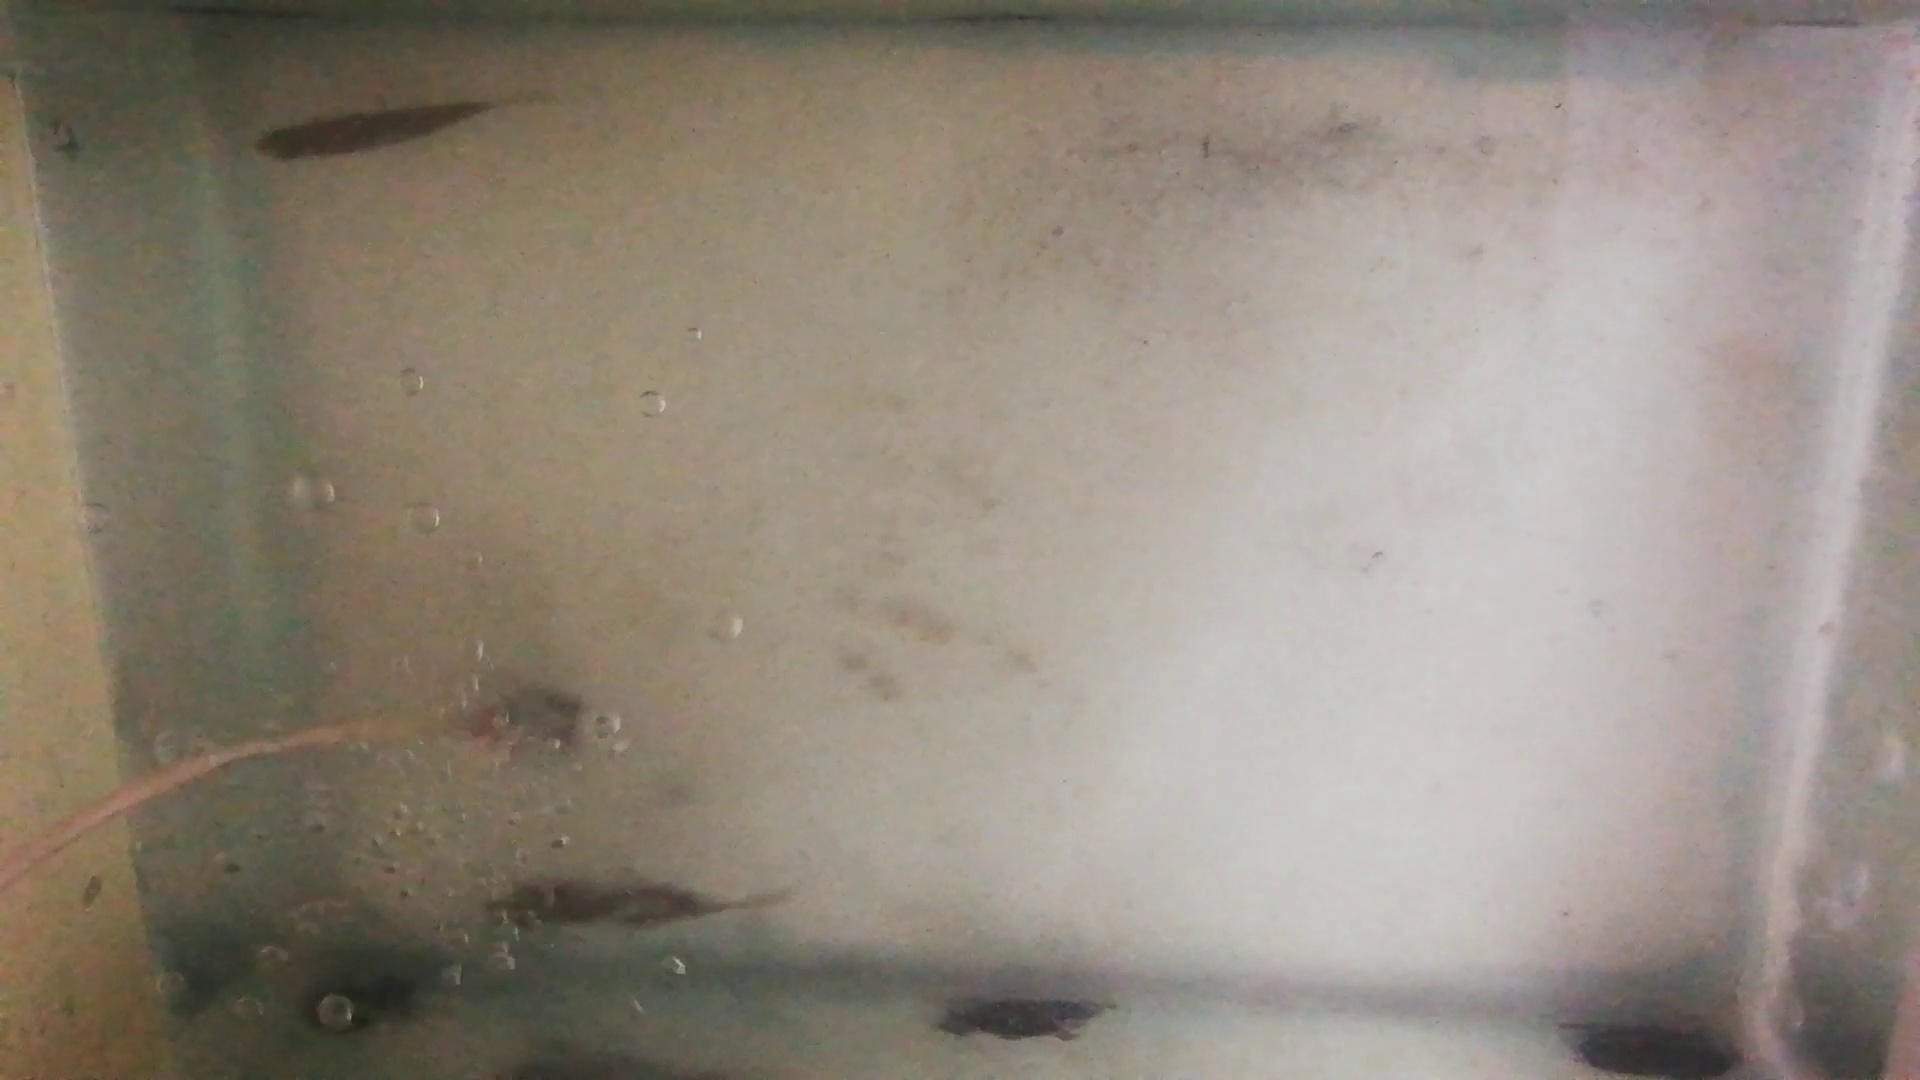fish: (251, 102, 493, 160), (484, 876, 728, 930)
